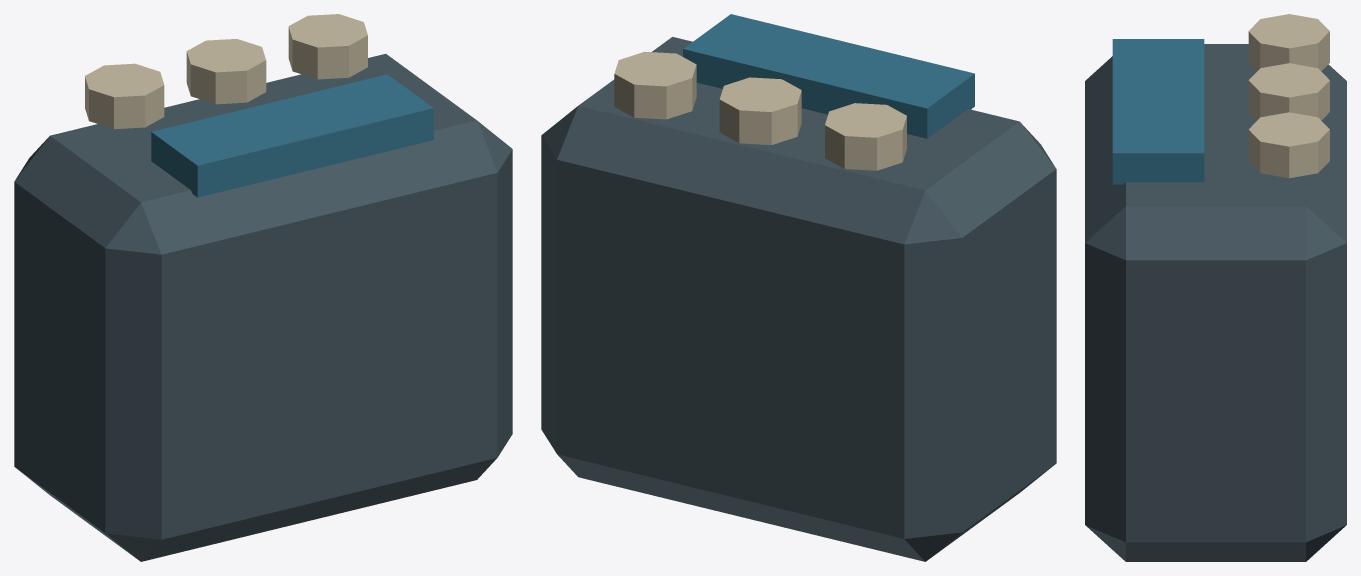
File: set_barcode_scanner.glb
The picture shows the model from 3 angles, left to right: view 1: azimuth 30°, elevation 25°; view 2: azimuth 150°, elevation 25°; view 3: azimuth 270°, elevation 25°; orthographic projection. The views are drawn at different scales.
Visible parts, largest first — view 1: set_barcode_scanner; view 2: set_barcode_scanner; view 3: set_barcode_scanner.
Boxes of the visible parts, x1=… form: set_barcode_scanner: x1=14, y1=14, x2=512, y2=561; set_barcode_scanner: x1=541, y1=14, x2=1056, y2=561; set_barcode_scanner: x1=1085, y1=14, x2=1346, y2=561.
Bounding box in the file's own units: 0.16 × 0.152 × 0.09.
